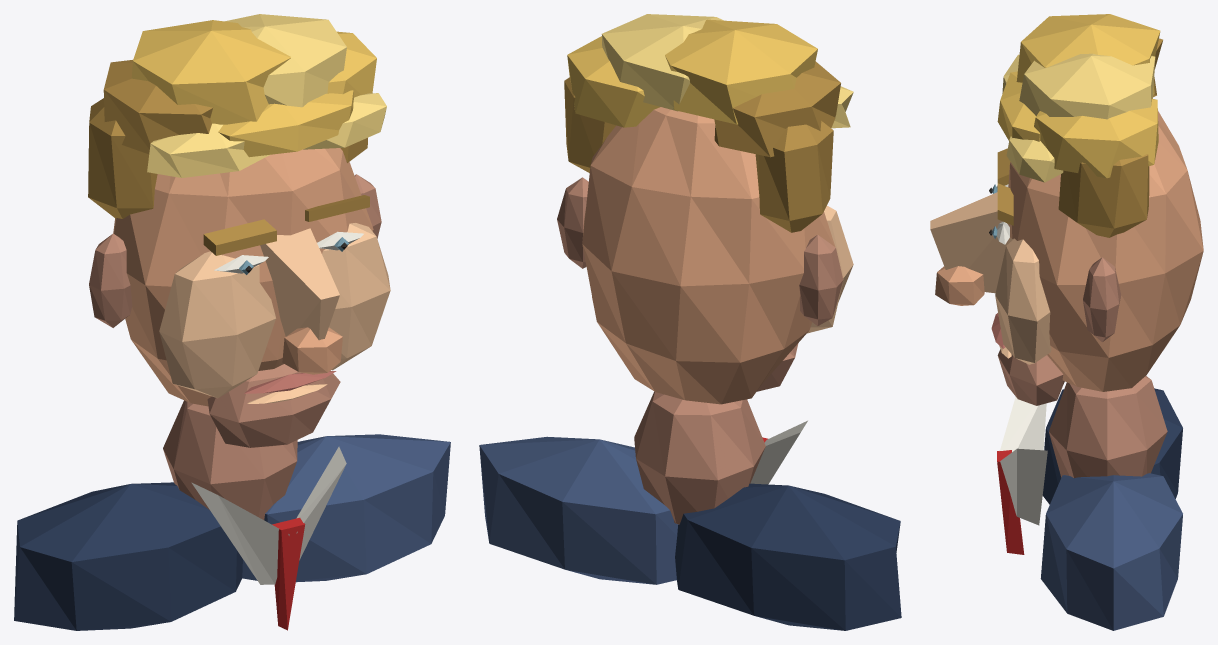
The model's file is trump-papercraft.glb.
3 renders of one model, left to right at view 1: azimuth 30°, elevation 25°; view 2: azimuth 150°, elevation 25°; view 3: azimuth 270°, elevation 25°, orthographic. The views are drawn at different scales.
Visible parts, largest first — view 1: left shoulder, head, right shoulder, left cheek, hair layer 2, neck, hair layer 3, chin, right cheek, nose, hair layer 1, hair layer 6 (+14 smaller); view 2: head, left shoulder, right shoulder, neck, hair layer 2, hair layer 6, hair layer 1, hair layer 3, hair layer 4, left ear, hair layer 5, right ear (+2 smaller); view 3: head, right shoulder, neck, hair layer 3, hair layer 4, hair layer 2, hair layer 5, right cheek, nose, left shoulder, right shirt collar, right ear (+8 smaller).
Part boxes in pixels (x1=…): left shoulder: x1=14, y1=482, x2=242, y2=630; head: x1=113, y1=148, x2=373, y2=406; right shoulder: x1=242, y1=434, x2=450, y2=582; left cheek: x1=159, y1=251, x2=275, y2=398; hair layer 2: x1=131, y1=20, x2=290, y2=124; neck: x1=163, y1=400, x2=297, y2=519; hair layer 3: x1=225, y1=14, x2=346, y2=107; chin: x1=207, y1=364, x2=340, y2=447; right cheek: x1=322, y1=223, x2=390, y2=370; nose: x1=260, y1=228, x2=339, y2=340; hair layer 1: x1=103, y1=60, x2=212, y2=154; hair layer 6: x1=88, y1=98, x2=157, y2=218; head: x1=582, y1=107, x2=835, y2=404; left shoulder: x1=675, y1=483, x2=901, y2=630; right shoulder: x1=479, y1=436, x2=678, y2=584; neck: x1=634, y1=391, x2=765, y2=524; hair layer 2: x1=665, y1=19, x2=817, y2=124; hair layer 6: x1=755, y1=121, x2=833, y2=232; hair layer 1: x1=714, y1=61, x2=840, y2=157; hair layer 3: x1=601, y1=14, x2=723, y2=111; hair layer 4: x1=567, y1=36, x2=659, y2=127; left ear: x1=799, y1=235, x2=843, y2=325; hair layer 5: x1=564, y1=77, x2=615, y2=172; right ear: x1=557, y1=177, x2=588, y2=268; head: x1=1007, y1=111, x2=1203, y2=391; right shoulder: x1=1040, y1=473, x2=1182, y2=630; neck: x1=1049, y1=376, x2=1167, y2=478; hair layer 3: x1=1019, y1=53, x2=1155, y2=119; hair layer 4: x1=1034, y1=98, x2=1158, y2=178; hair layer 2: x1=1016, y1=14, x2=1160, y2=94; hair layer 5: x1=1058, y1=154, x2=1149, y2=237; right cheek: x1=995, y1=237, x2=1051, y2=364; nose: x1=930, y1=192, x2=1008, y2=293; left shoulder: x1=1042, y1=388, x2=1182, y2=504; right shirt collar: x1=1000, y1=448, x2=1047, y2=525; right ear: x1=1083, y1=257, x2=1121, y2=342.
Size of the model in its own units: 3.66 by 4.73 by 2.21.
